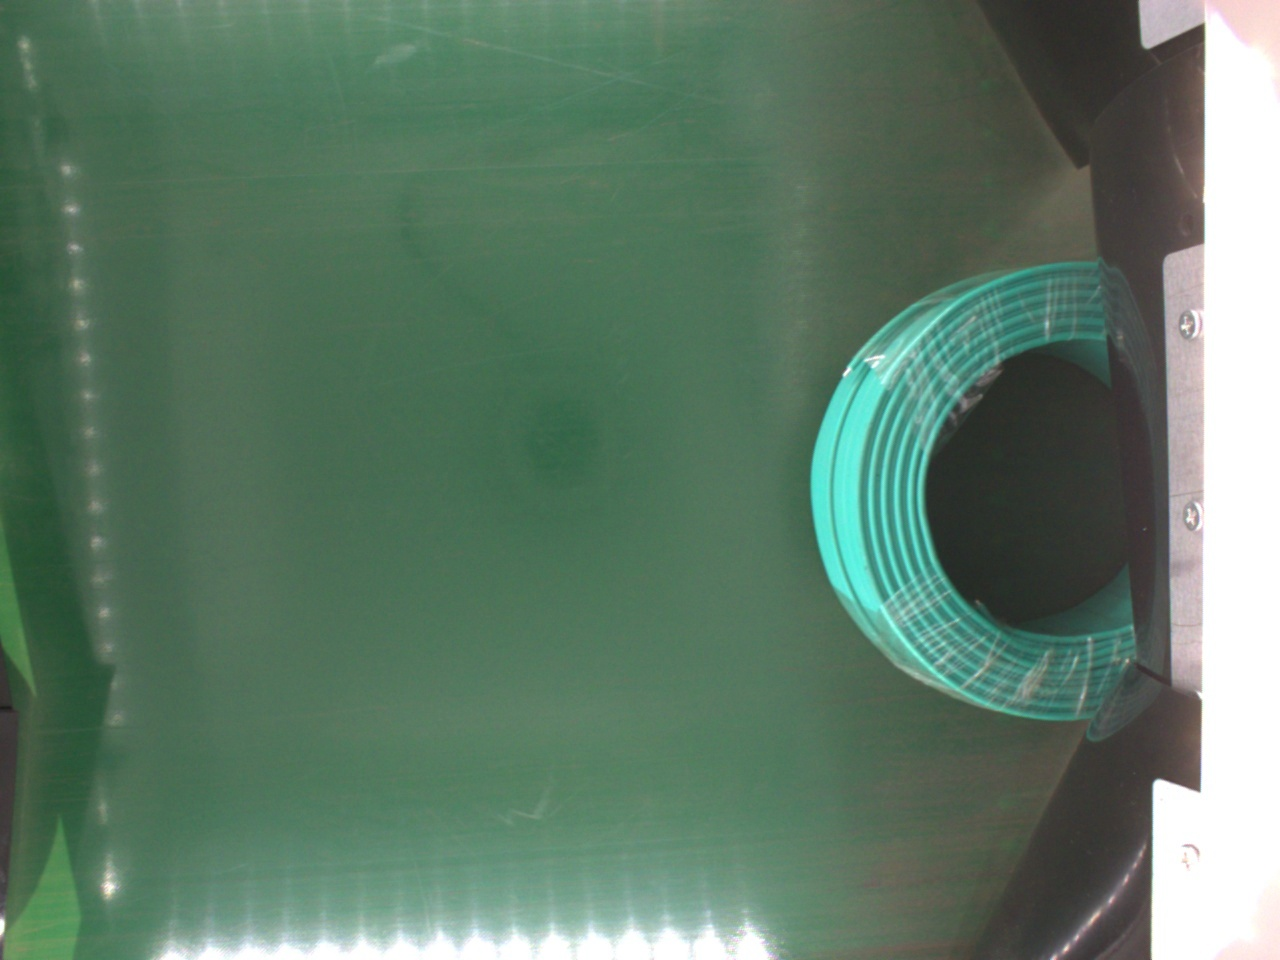green: (805, 266, 1128, 723)
